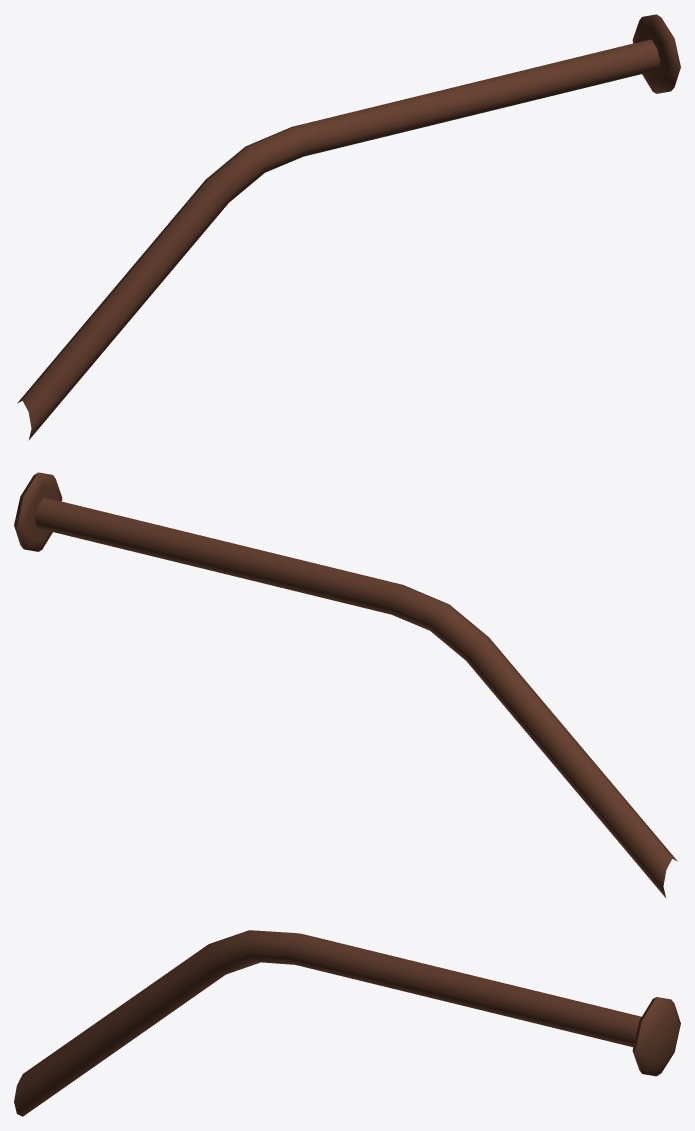
The picture shows the model from 3 angles, top to bottom: view 1: azimuth 30°, elevation 25°; view 2: azimuth 150°, elevation 25°; view 3: azimuth 330°, elevation 25°; orthographic projection.
Parts seen in each view (by area): view 1: body0_model0_lod0_mesh0; view 2: body0_model0_lod0_mesh0; view 3: body0_model0_lod0_mesh0.
Part boxes in pixels (left/top/right/bottom): body0_model0_lod0_mesh0: left=17, top=14, right=680, bottom=440; body0_model0_lod0_mesh0: left=14, top=472, right=677, bottom=898; body0_model0_lod0_mesh0: left=14, top=930, right=680, bottom=1116.
Bounding box in the file's own units: 15.9 × 6.47 × 1.87.
